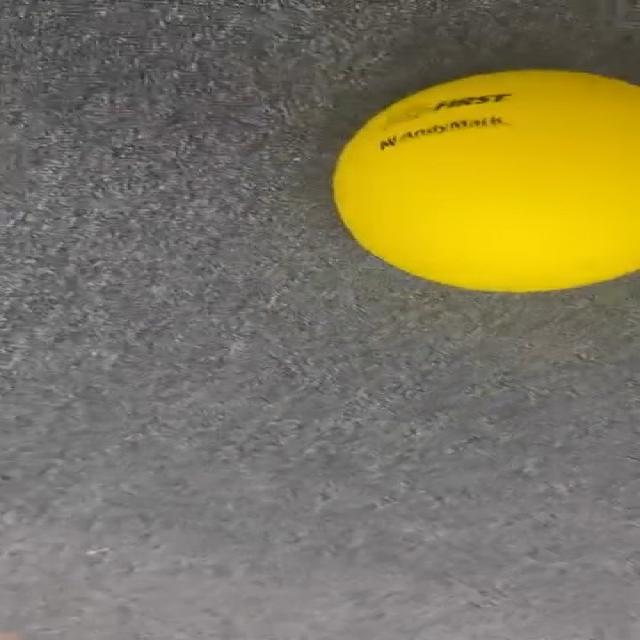Fuels: (325, 67, 640, 289)
